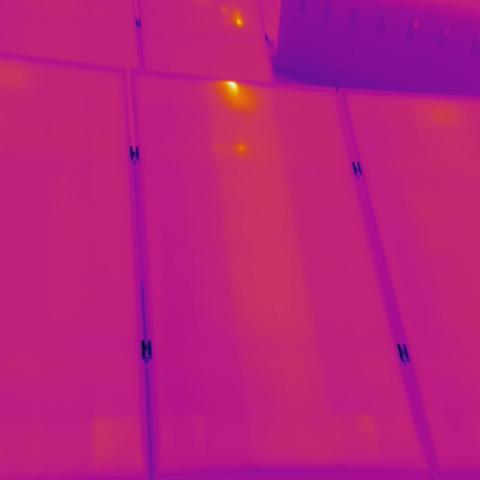fault: (220, 76, 250, 104), (219, 7, 250, 27)
